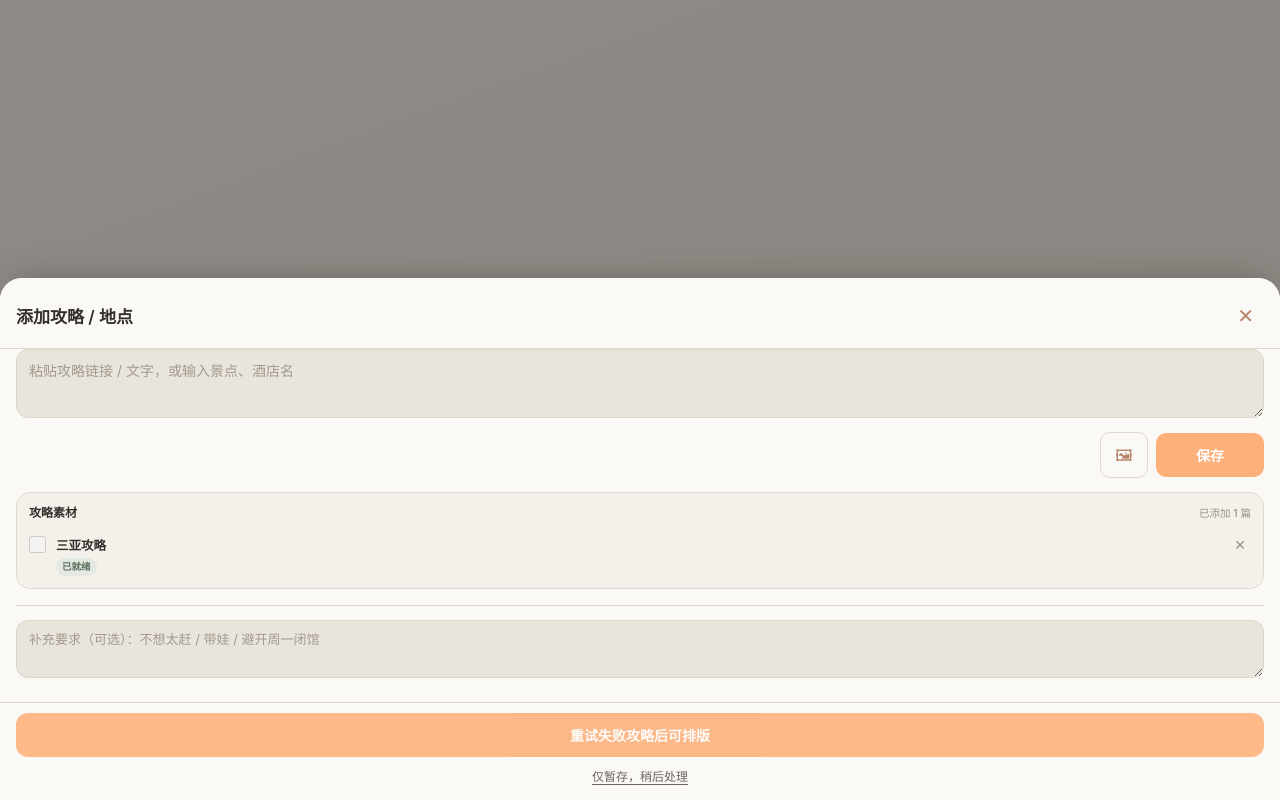
Test: NoteInput 来源删除二次确认端到端（任务 188） › 确认移除失败：展示服务端错误提示，来源保留且可再次发起
Later steps or results of the test are not shown.
Click the button named "移除该攻略" at (1240, 545), box left=1229, top=535, right=1251, bottom=555
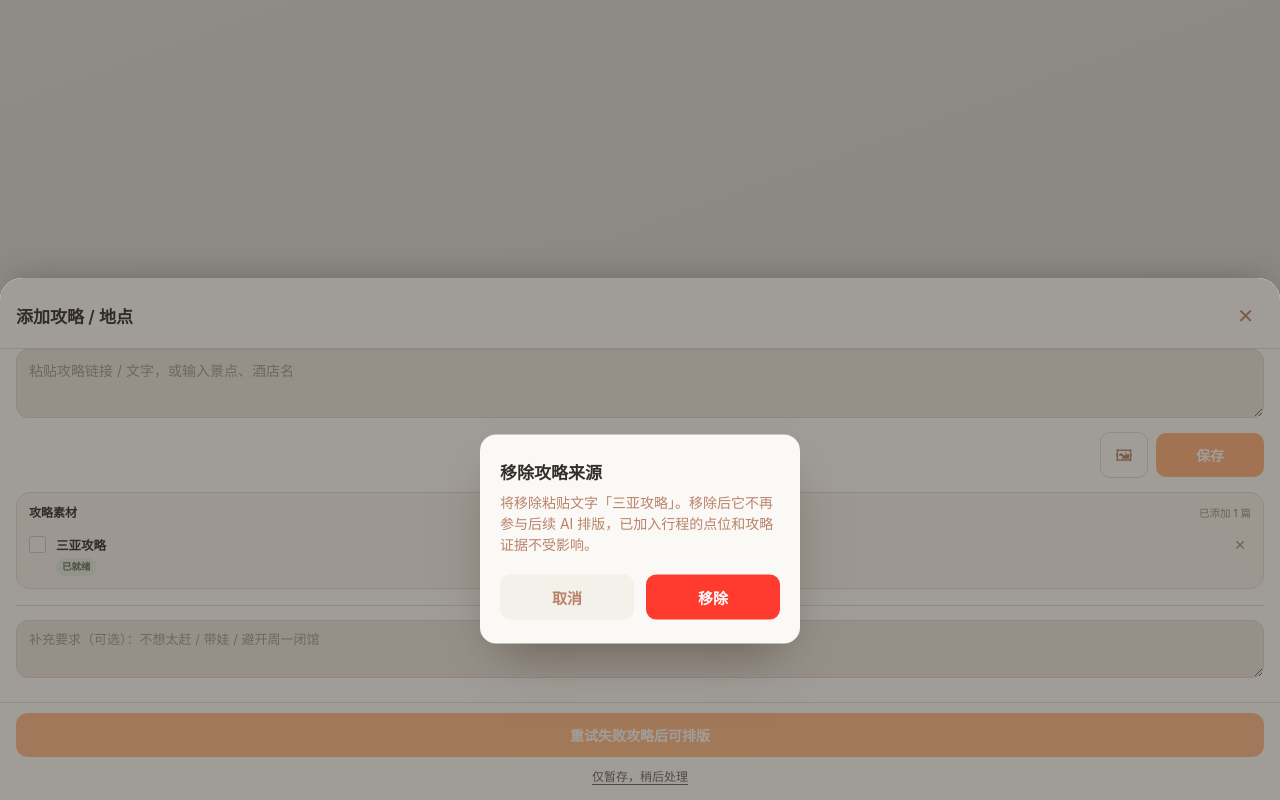
Click the button "移除" at (713, 597), box left=646, top=574, right=780, bottom=619
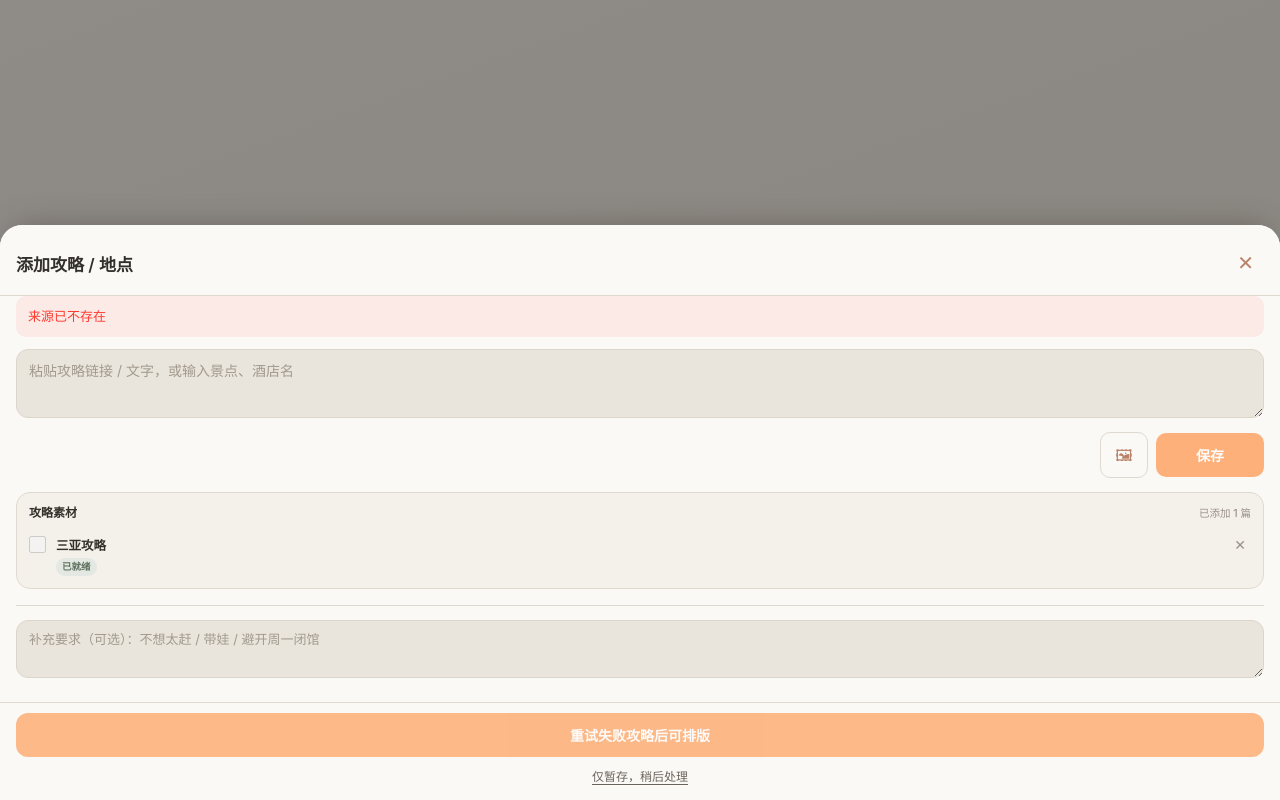
Expected: the text "已添加 1 篇" is shown, left=1199, top=505, right=1251, bottom=520
Now the message reads "来源已不存在", box left=28, top=308, right=106, bottom=324
